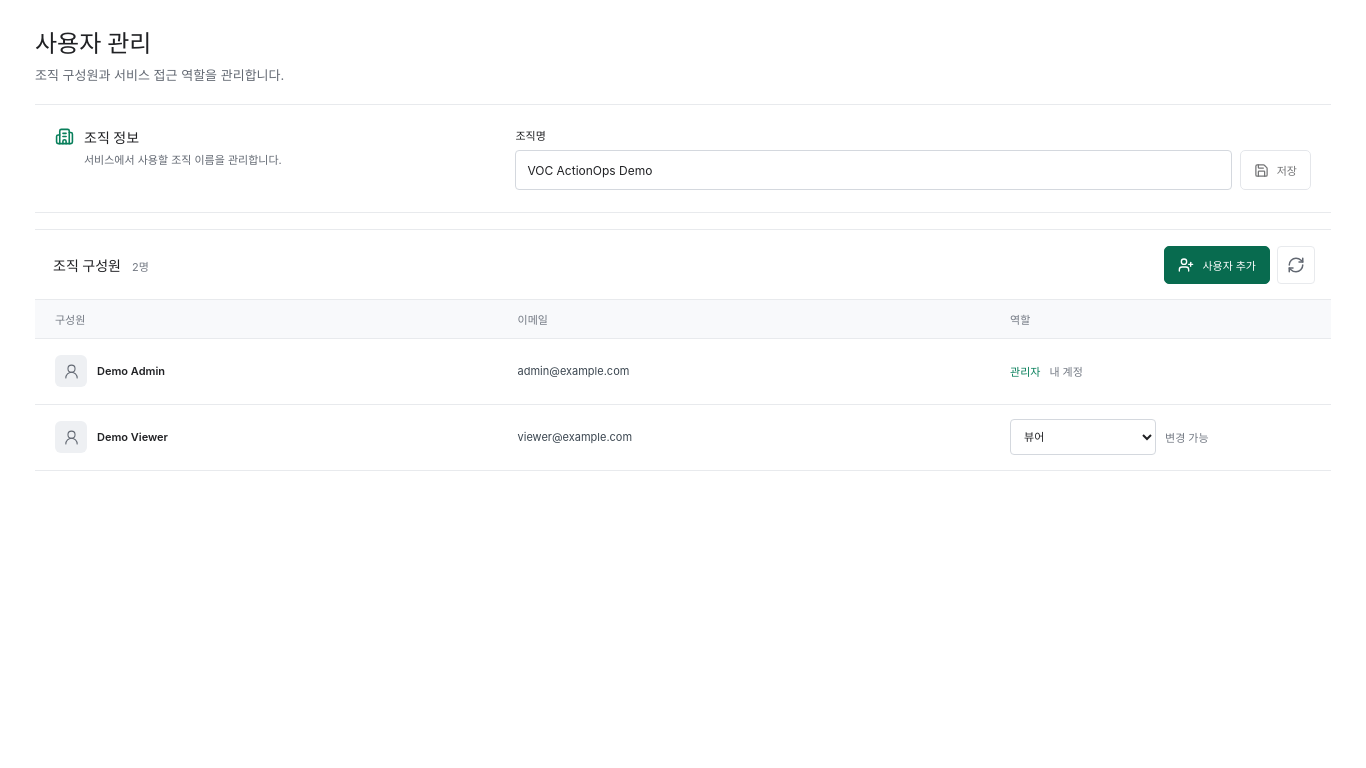
Scenario: UsersPage › opens the user creation dialog
The image size is (1366, 768).
Expected: the text "Demo Viewer" is shown, 97,430 -> 168,444
What coordinates should you click on to do the following:
click the button "사용자 추가"
I would click on:
 (1217, 264)
Its box is 1164,246 -> 1270,284.
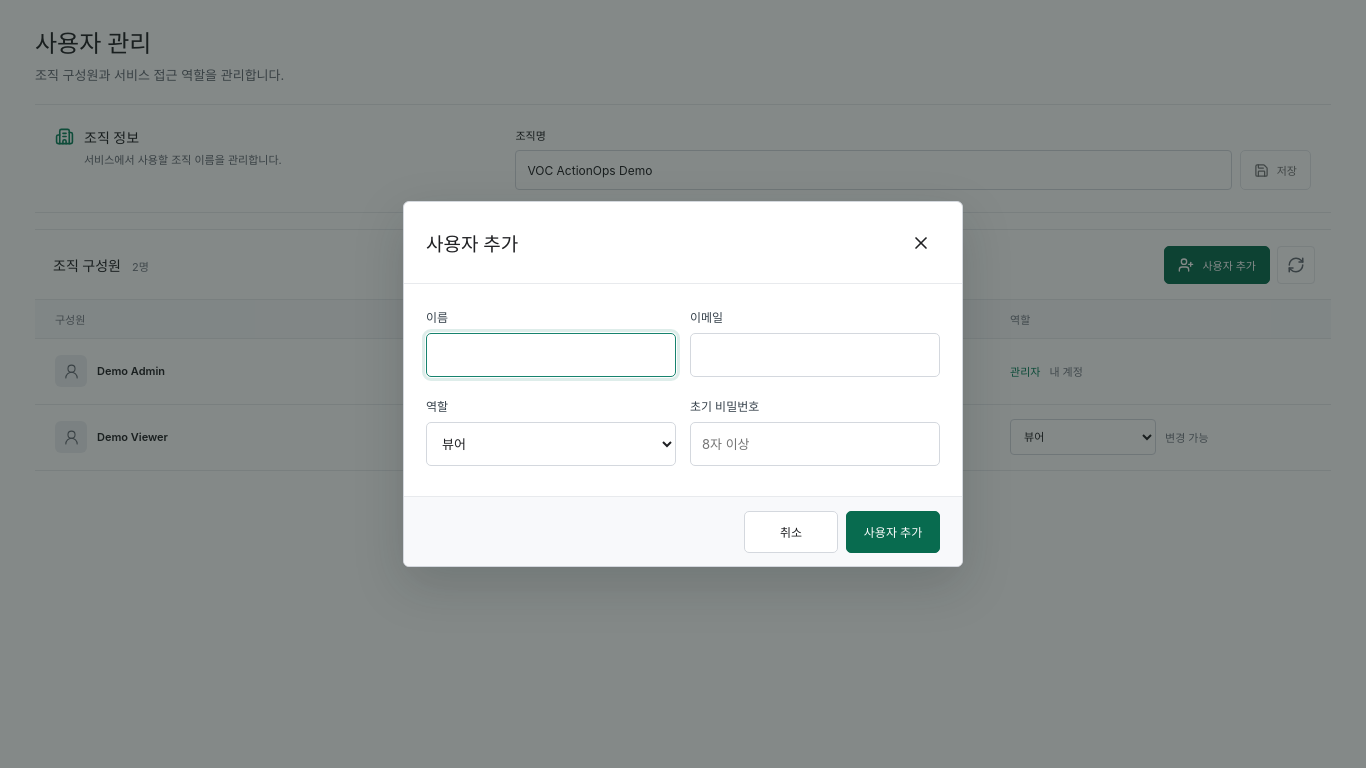
Expected: the dialog "사용자 추가" is shown, 403,201 -> 963,567
